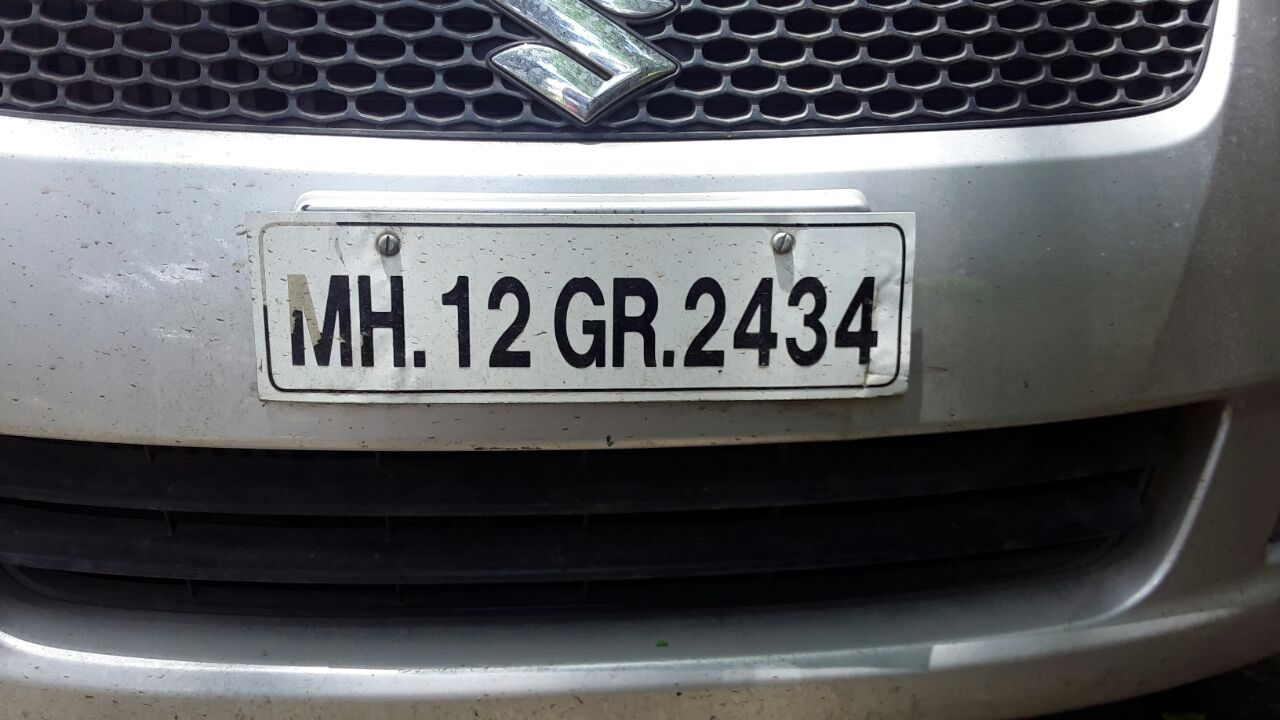licenseplate: (233, 205, 932, 412)
